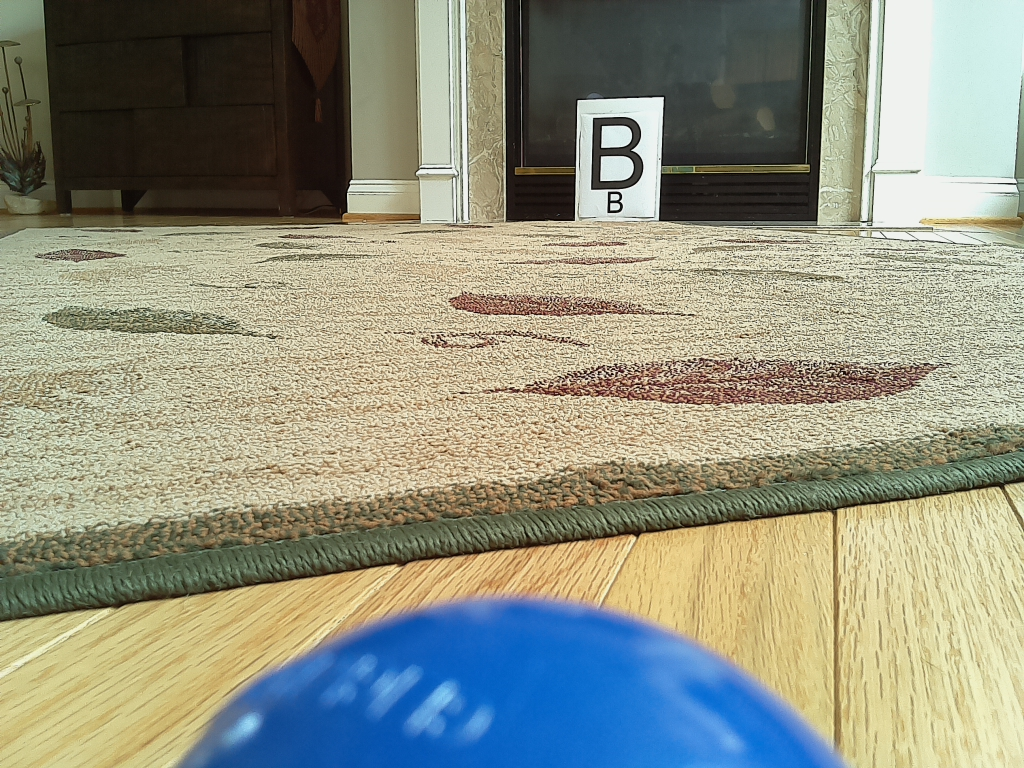letter: (589, 116, 645, 189)
